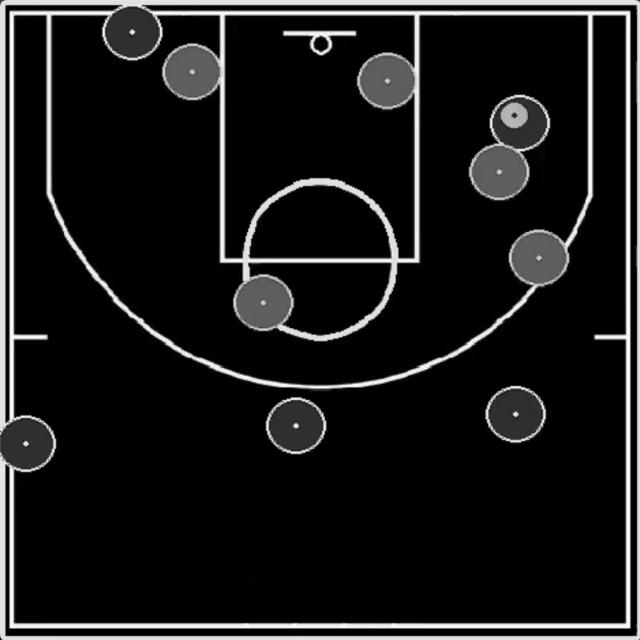Basketball: (500, 102, 528, 129)
Team_A: (266, 398, 326, 455), (486, 386, 546, 443), (490, 95, 550, 151), (102, 5, 162, 60), (0, 415, 56, 473)
Team_B: (356, 53, 416, 111), (468, 144, 530, 200), (162, 44, 222, 100), (234, 275, 294, 331), (510, 231, 570, 287)
